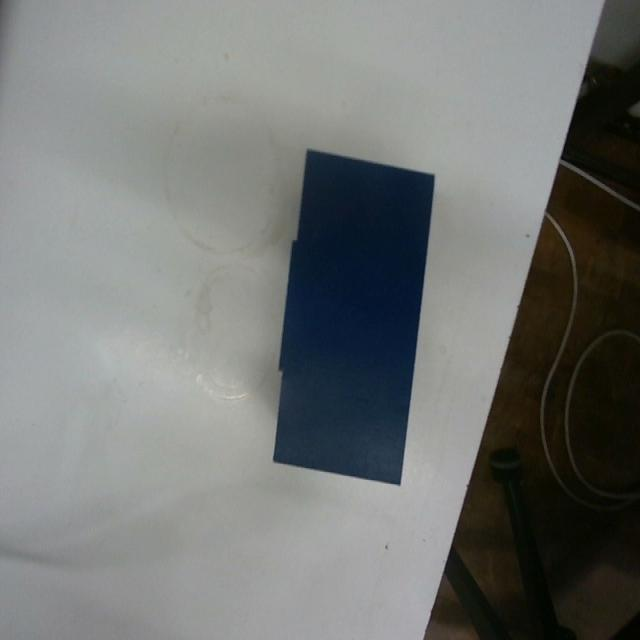Blue Cuboid: (270, 144, 436, 488)
